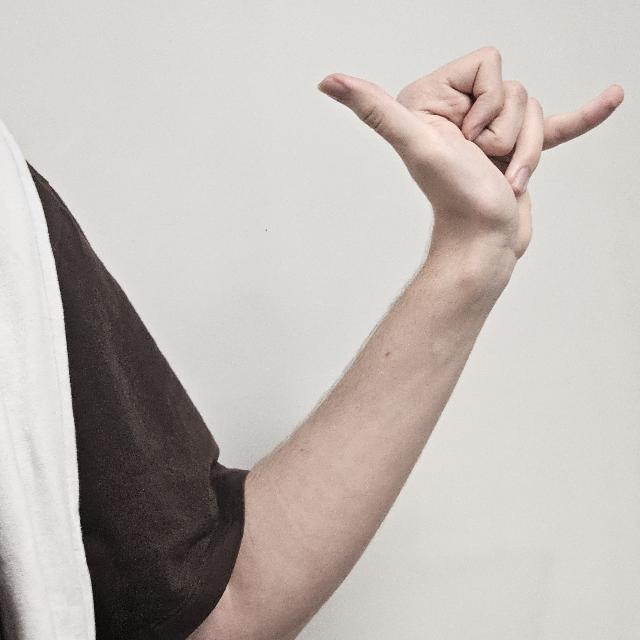Direita: (318, 44, 624, 298)
